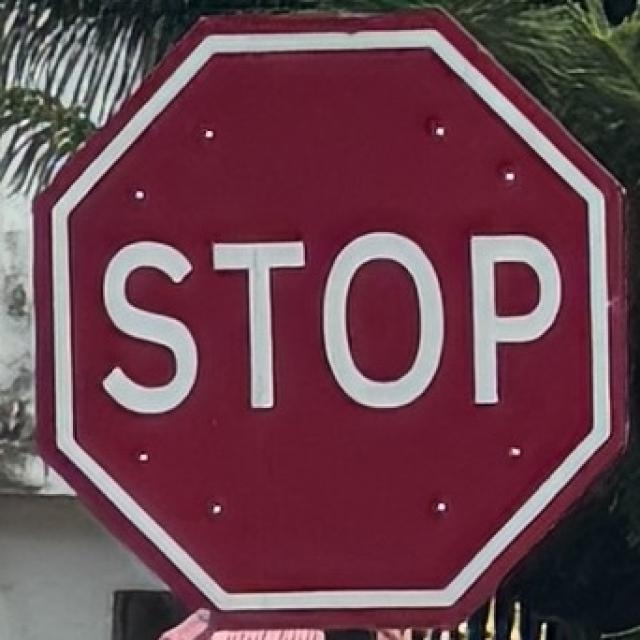STOP: (25, 12, 630, 634)
